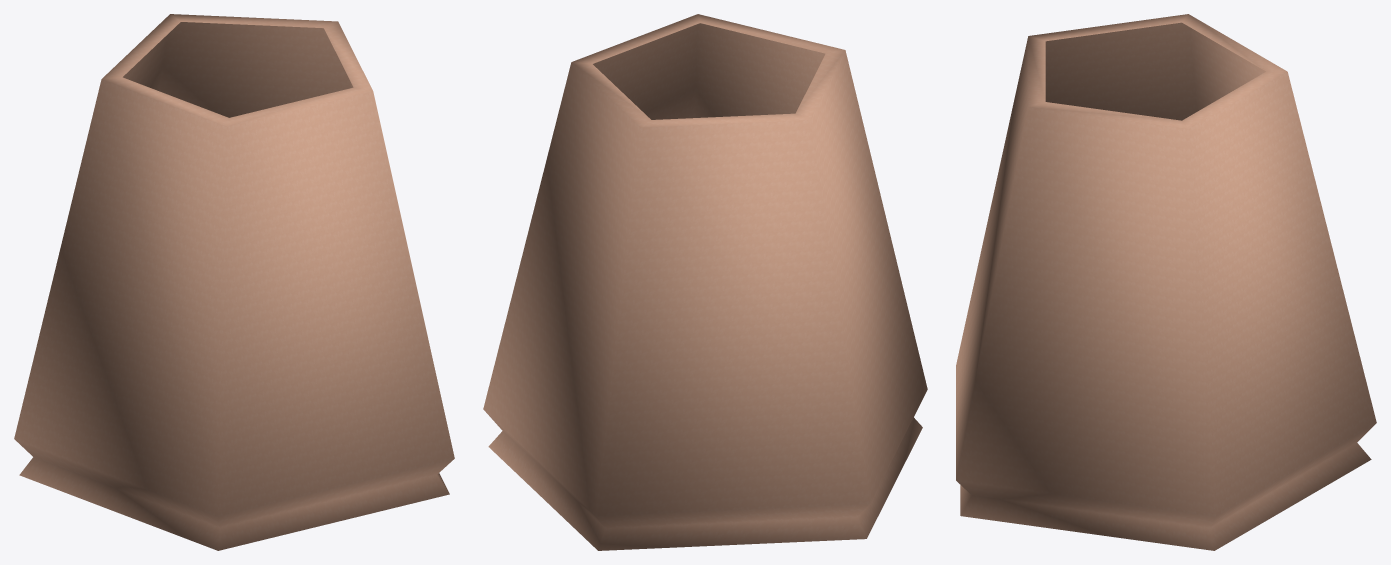
The model's file is Vase.glb.
3 views of the same model, side by side, from view 1: azimuth 30°, elevation 25°; view 2: azimuth 150°, elevation 25°; view 3: azimuth 270°, elevation 25° (orthographic).
Visible parts, largest first — view 1: Cone; view 2: Cone; view 3: Cone.
Part boxes in pixels (box(x1,y1,x2,y2)): Cone: box(14, 14, 454, 550); Cone: box(483, 14, 927, 550); Cone: box(956, 14, 1376, 550).
Size of the model in its own units: 0.4164 by 0.4029 by 0.396.
Materials: 1 (1 with a texture image).
